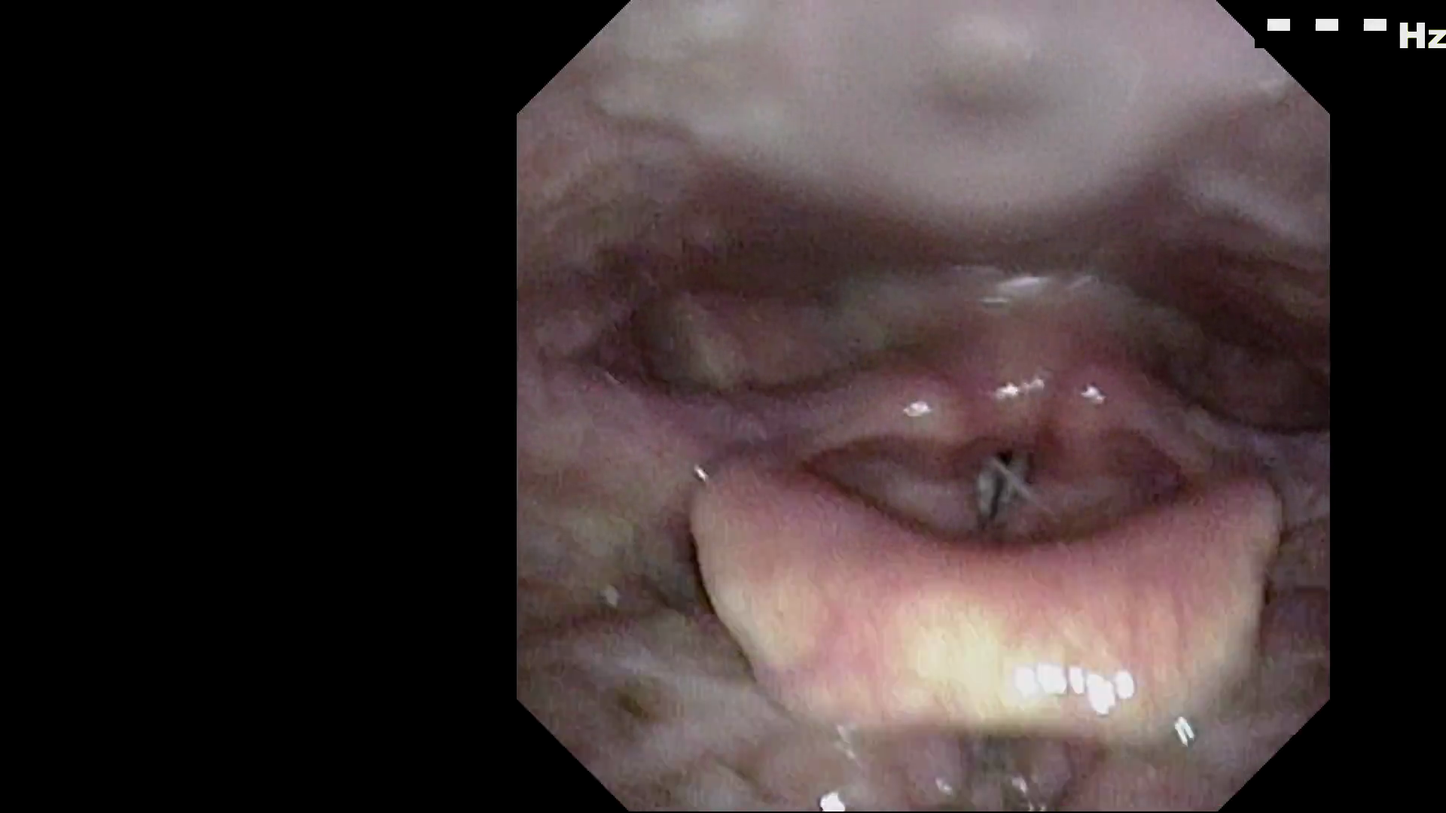epiglottis: (675, 451, 1287, 730)
trachea: (936, 414, 1063, 540), (945, 492, 1028, 582)
